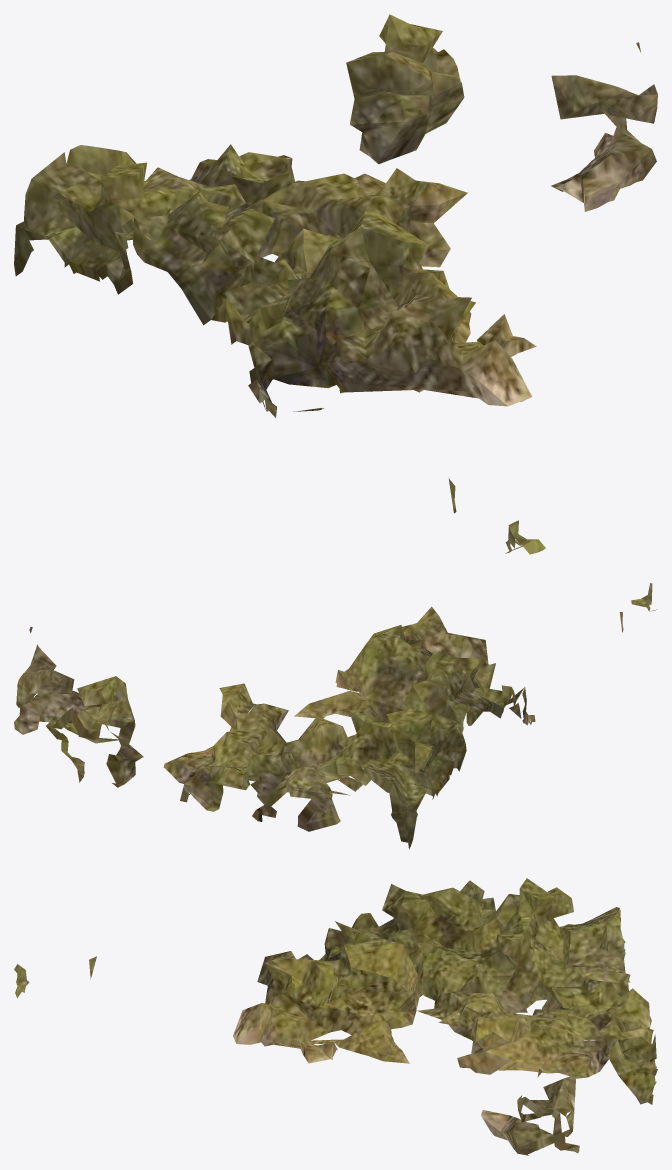
3 renders of one model, top to bottom at view 1: azimuth 30°, elevation 25°; view 2: azimuth 150°, elevation 25°; view 3: azimuth 270°, elevation 25°, orthographic. The views are drawn at different scales.
Parts seen in each view (by area): view 1: Mesh_0; view 2: Mesh_0; view 3: Mesh_0.
Boxes of the visible parts, box(x1,y1,x2,y2) form: Mesh_0: box(14, 14, 657, 554); Mesh_0: box(14, 583, 656, 849); Mesh_0: box(14, 878, 657, 1155).
Bounding box in the file's own units: 30.01 × 7.82 × 40.88.
Materials: 1 (1 with a texture image).
